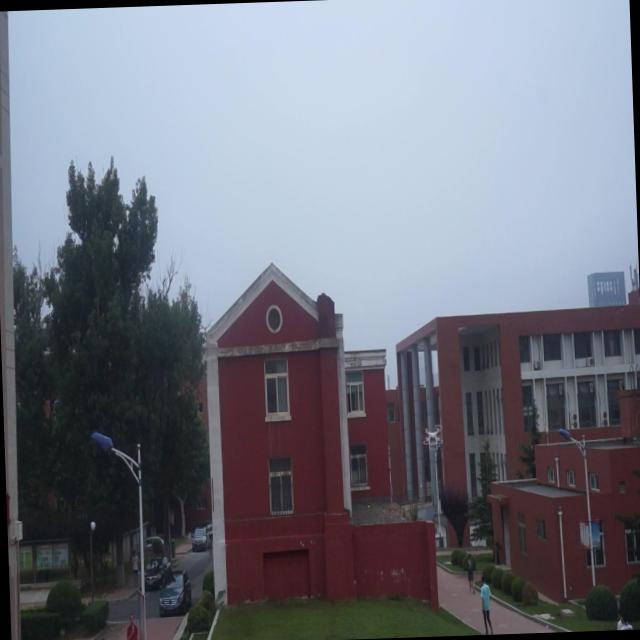drone: (422, 418, 446, 453)
